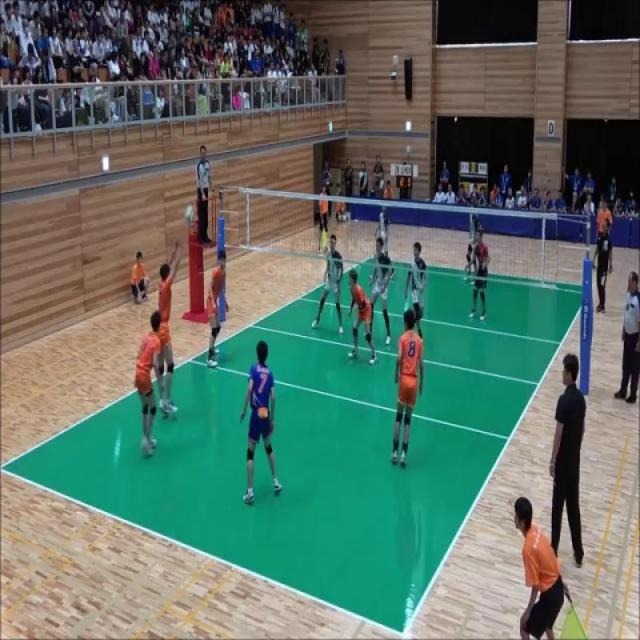volleyball: (183, 204, 194, 228)
